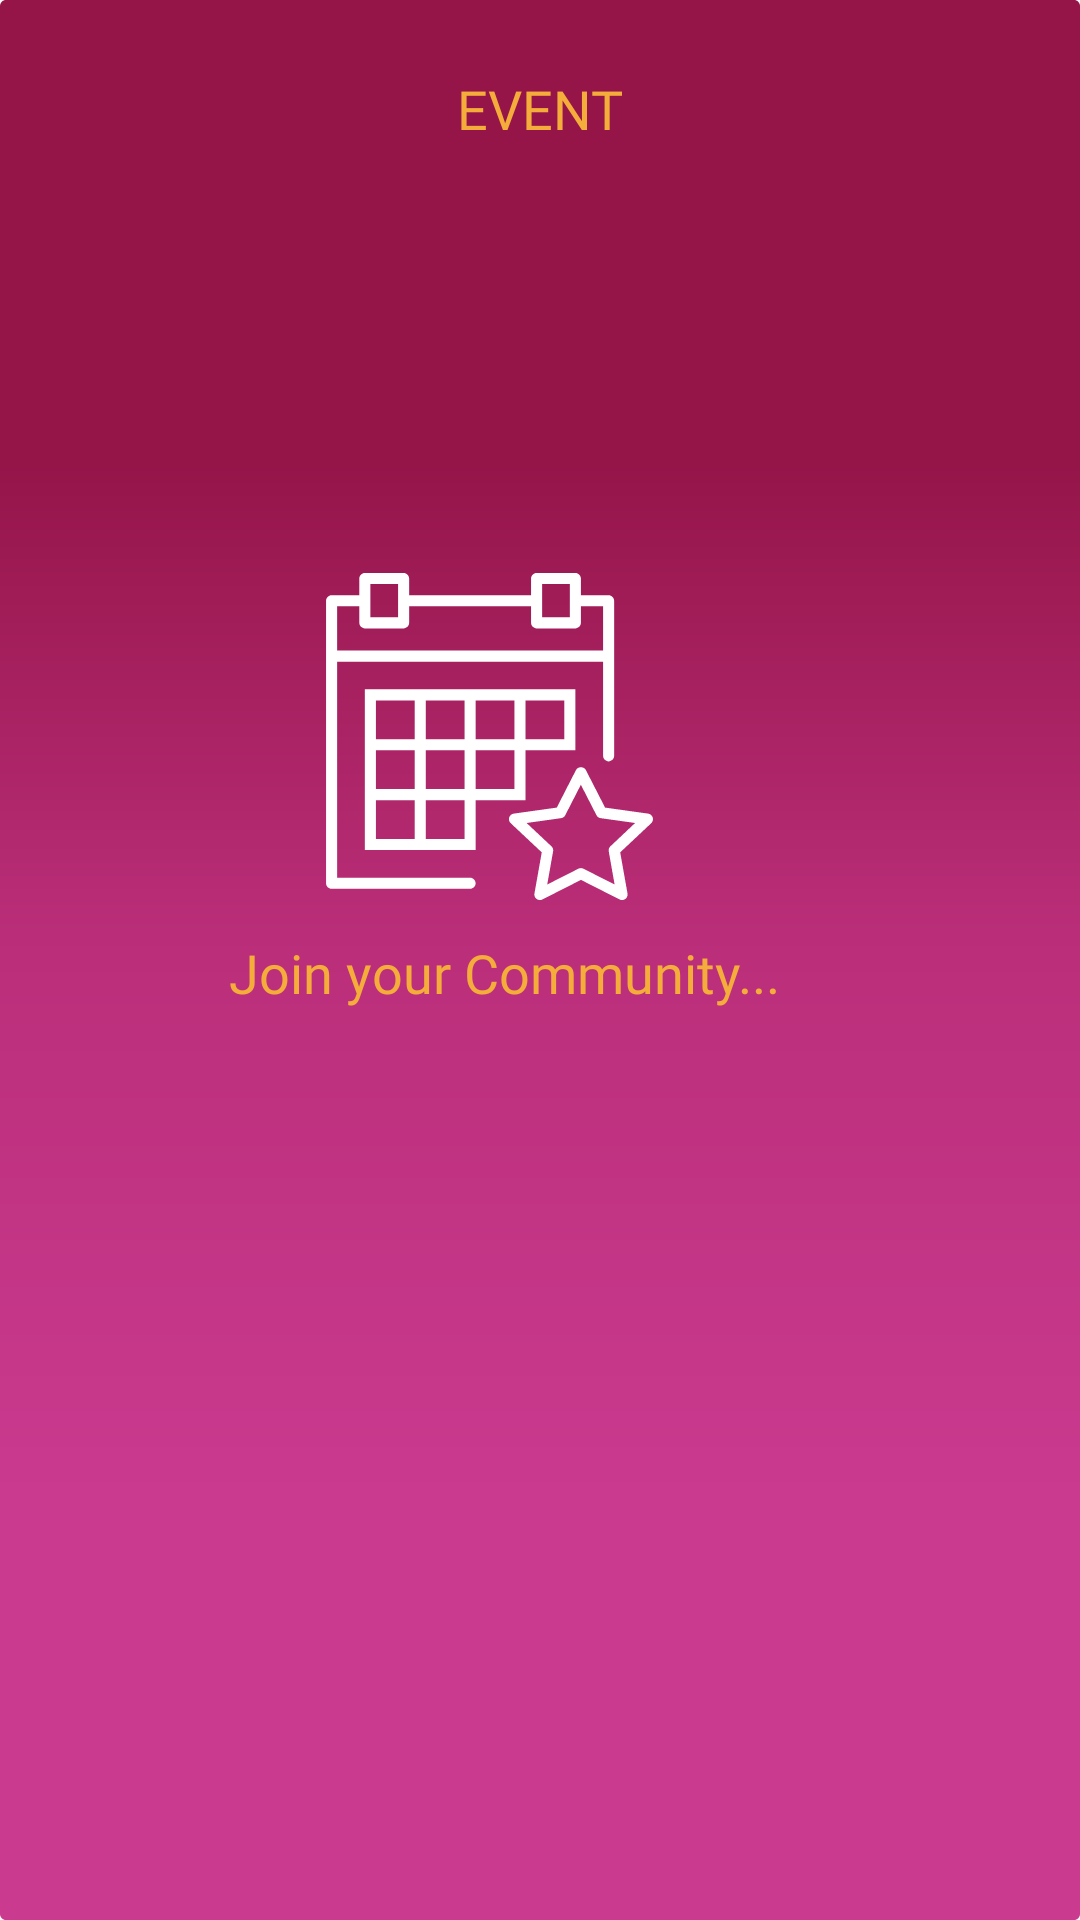

Named icons in this screenshot (1080 x 1920) and their centers, (x=x, y=y):
EVENT: (x=489, y=736)
